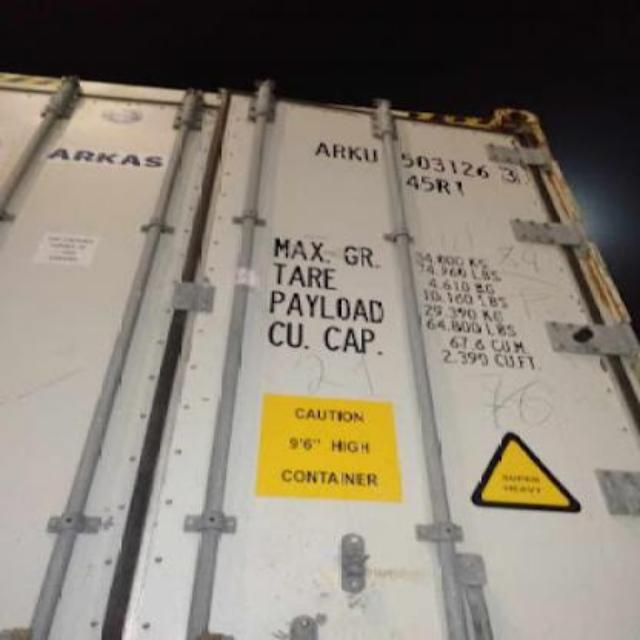0: (418, 154, 432, 170)
1: (448, 157, 460, 177)
2: (458, 161, 476, 179)
3: (502, 168, 518, 182), (434, 156, 446, 174)
5: (401, 152, 414, 168)
6: (474, 160, 492, 183)
A: (312, 141, 330, 157)
K: (348, 144, 362, 164)
R: (330, 144, 348, 160)
U: (364, 145, 378, 165)
